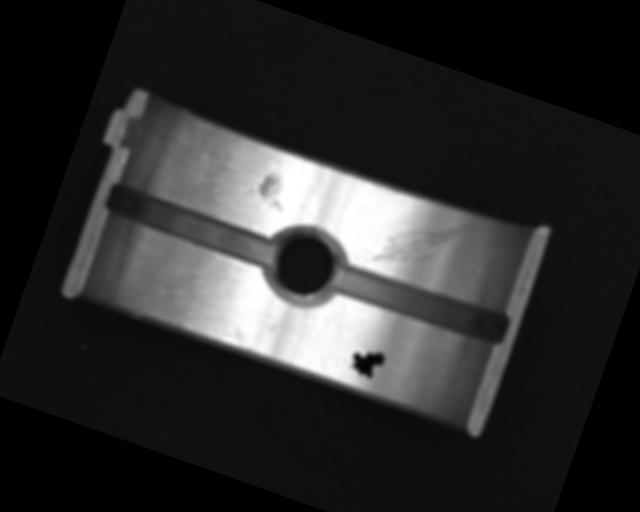blot: (346, 342, 387, 382)
bruise: (251, 171, 292, 214)
gap: (326, 255, 511, 349), (102, 181, 281, 269)
hole: (257, 219, 353, 315)
nick: (372, 193, 474, 287)
